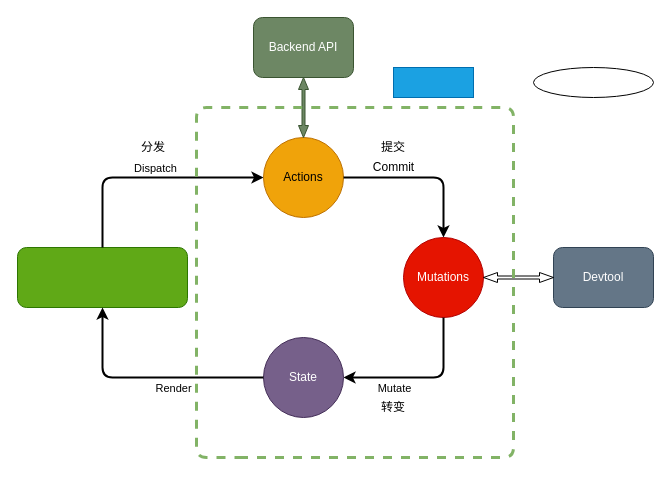
This 671x477 diagram has some shape labels left out. Each missing label, with the centre of its shape:
"store" belongs at (593,82).
"Vue Components" belongs at (102,277).
"Vuex" belongs at (433,82).
